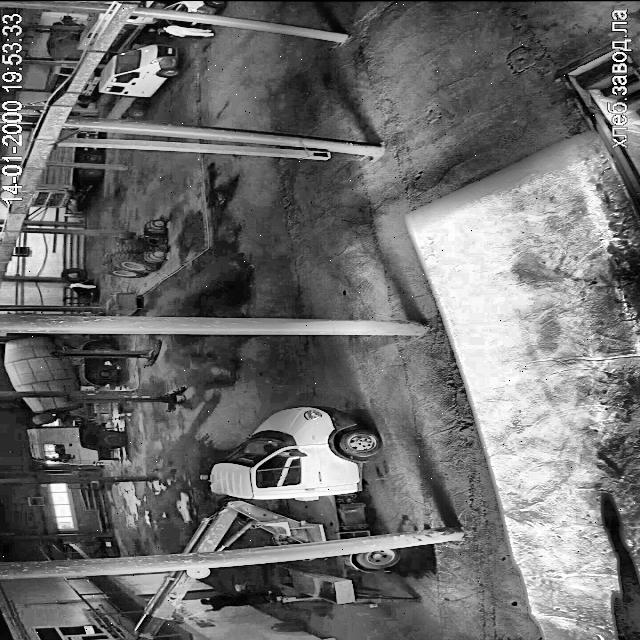car: (165, 0, 226, 14), (165, 20, 211, 28), (183, 37, 205, 39)
mechanic: (201, 592, 270, 610), (156, 25, 213, 36)
truck: (186, 407, 380, 552), (25, 396, 124, 464), (4, 334, 116, 392), (285, 549, 397, 603), (99, 44, 179, 119), (137, 569, 209, 640), (29, 165, 102, 207), (108, 16, 156, 52), (80, 7, 114, 48), (48, 146, 102, 162), (60, 130, 97, 140), (142, 0, 156, 6), (86, 406, 92, 409), (286, 597, 291, 600), (114, 4, 116, 5)
